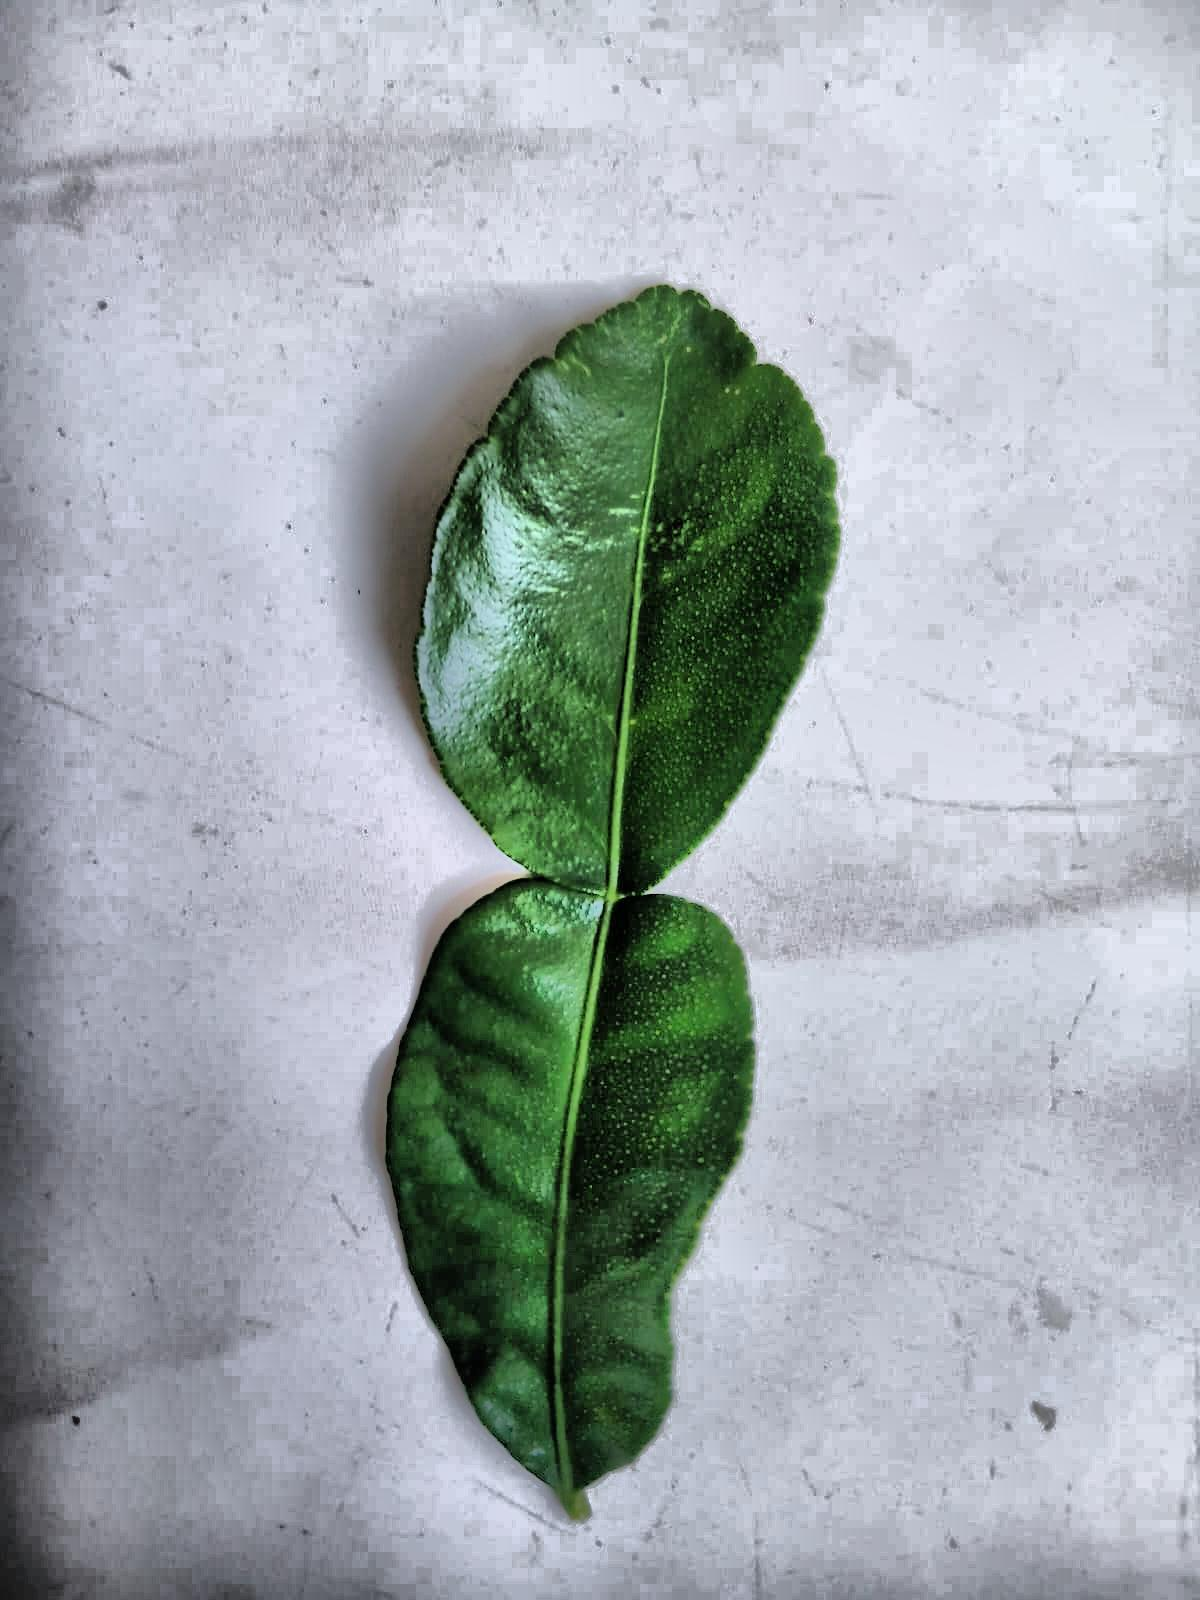daun jeruk: (386, 286, 838, 1517)
